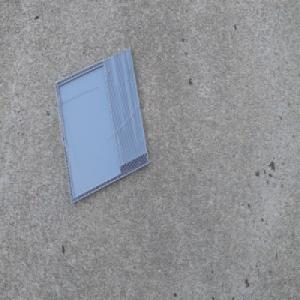PlasticPart: (53, 45, 150, 205)
